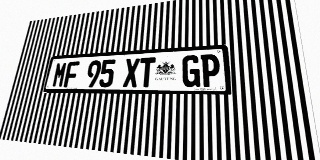5: (99, 59, 116, 87)
9: (85, 60, 102, 87)
F: (63, 61, 80, 87)
G: (182, 55, 200, 87)
M: (51, 62, 68, 87)
P: (201, 54, 220, 87)
T: (138, 57, 156, 87)
X: (123, 58, 140, 87)
